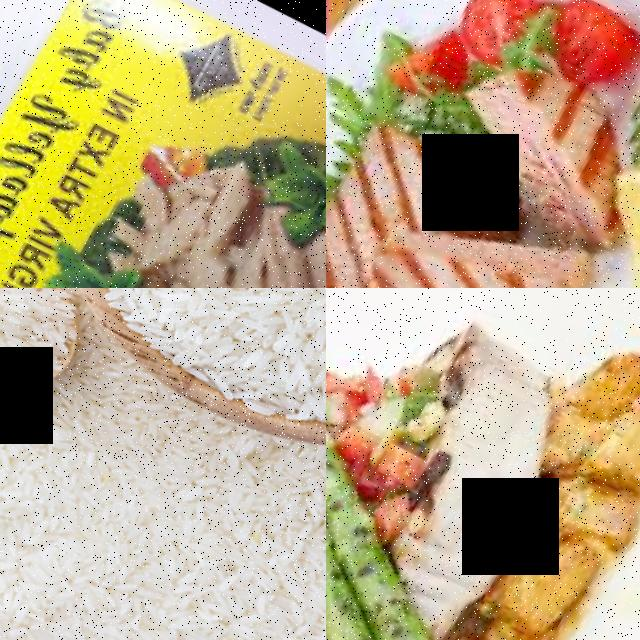lemon: (556, 156, 640, 288)
white rice: (0, 344, 326, 640), (89, 288, 326, 466), (0, 308, 56, 619), (0, 288, 101, 411)
